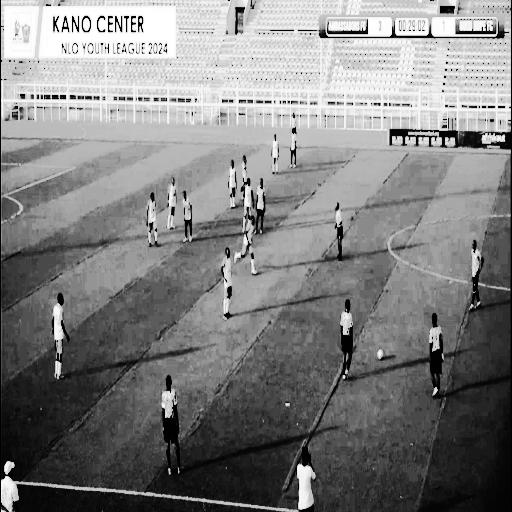ball: (374, 345, 384, 363)
distract: (292, 432, 318, 512), (0, 445, 27, 512)
referee: (332, 196, 350, 265)
team1: (156, 373, 189, 485), (334, 290, 361, 393), (423, 309, 448, 409), (465, 233, 488, 321), (178, 187, 197, 246), (254, 179, 268, 235), (288, 124, 298, 175), (241, 152, 249, 184)
team2: (44, 286, 74, 388), (233, 214, 258, 284), (144, 189, 164, 256), (221, 243, 235, 321), (226, 156, 240, 212), (165, 174, 177, 238), (270, 130, 284, 178), (241, 173, 252, 230)
